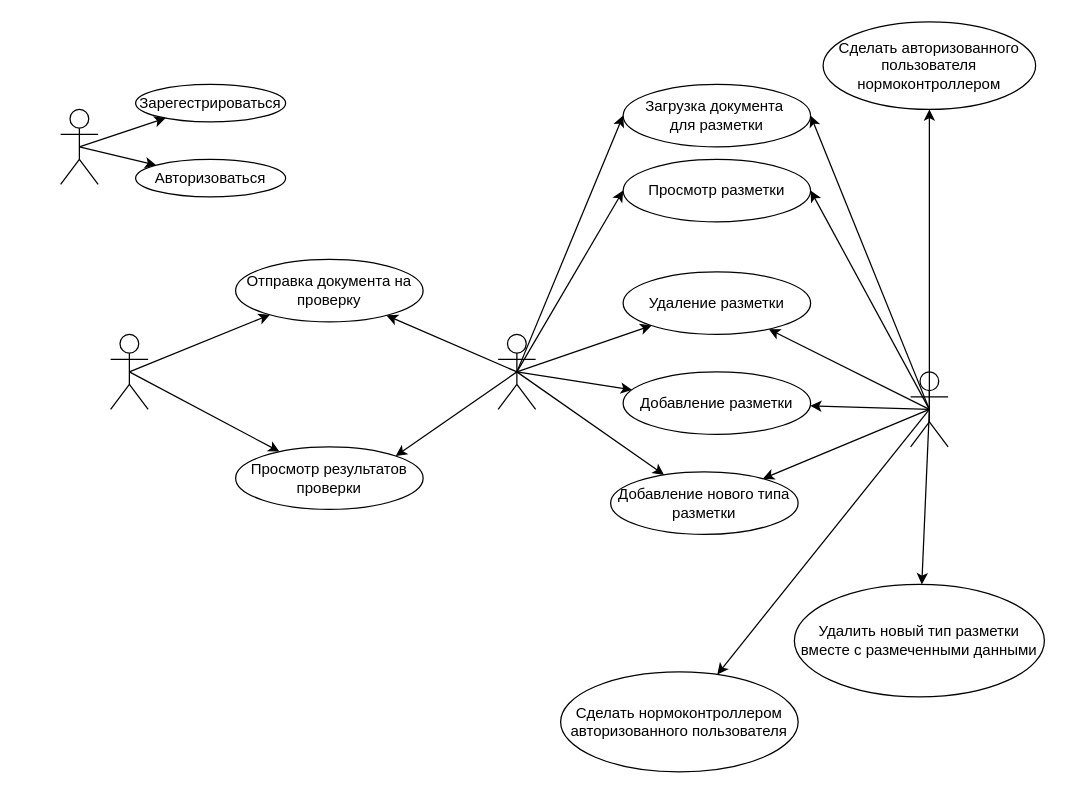
Some shapes in this 1066 by 794 pixel diagram are drawn without their labels. The box of each missing label's shape, as (x1, y1, x2, y2) in pixels:
Авторизованный пользователь: (109, 333, 148, 409)
Администратор: (909, 371, 948, 447)
Гость: (59, 108, 98, 184)
Нормоконтроллер: (497, 333, 536, 409)
